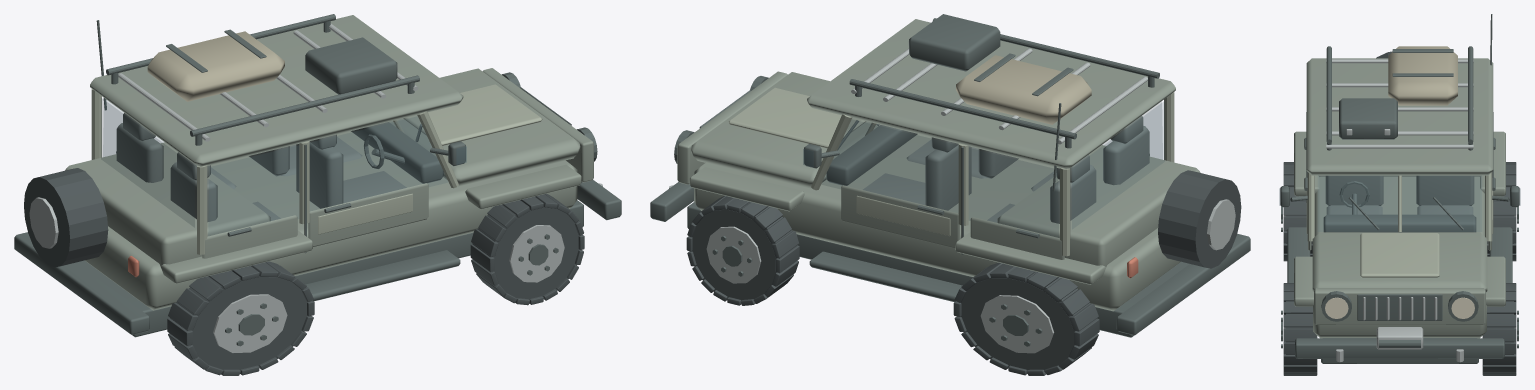
The model's file is camp_rover.glb.
3 views of the same model, side by side, from view 1: azimuth 30°, elevation 25°; view 2: azimuth 150°, elevation 25°; view 3: azimuth 270°, elevation 25° (orthographic). The views are drawn at different scales.
Visible parts, largest first — view 1: Cab roof, Lower body, Side window.001, Rear body, Hood, Canvas duffel, Rear glass, Spare tyre, Tyre.002, Hood raised spine, Tyre.003, Rugged case (+29 smaller); view 2: Cab roof, Lower body, Side window, Rear body, Hood, Rear glass, Canvas duffel, Spare tyre, Tyre, Hood raised spine, Tyre.001, Rugged case (+29 smaller); view 3: Cab roof, Windshield, Hood, Lower body, Front bumper, Hood raised spine, Canvas duffel, Dashboard, Front fascia, Rugged case, Grille black inset, Seat_0_0_back (+45 smaller).
Boxes of the visible parts, left/top/right/bottom form: Cab roof: left=90, top=15, right=463, bottom=166; Lower body: left=85, top=131, right=577, bottom=310; Side window.001: left=208, top=117, right=447, bottom=235; Rear body: left=65, top=142, right=270, bottom=265; Hood: left=389, top=68, right=580, bottom=186; Canvas duffel: left=147, top=31, right=284, bottom=101; Rear glass: left=101, top=98, right=194, bottom=226; Spare tyre: left=24, top=168, right=108, bottom=267; Tyre.002: left=170, top=266, right=310, bottom=372; Hood raised spine: left=403, top=84, right=542, bottom=145; Tyre.003: left=472, top=200, right=579, bottom=299; Rugged case: left=305, top=37, right=397, bottom=94; Cab roof: left=807, top=19, right=1175, bottom=168; Lower body: left=694, top=134, right=1180, bottom=311; Side window: left=822, top=120, right=1058, bottom=237; Rear body: left=997, top=145, right=1200, bottom=267; Hood: left=691, top=72, right=880, bottom=188; Rear glass: left=1072, top=101, right=1164, bottom=228; Canvas duffel: left=956, top=55, right=1091, bottom=124; Spare tyre: left=1158, top=170, right=1241, bottom=268; Tyre: left=960, top=267, right=1096, bottom=370; Hood raised spine: left=728, top=87, right=865, bottom=148; Tyre.001: left=690, top=202, right=797, bottom=300; Rugged case: left=909, top=14, right=1000, bottom=71; Cab roof: left=1306, top=58, right=1493, bottom=175; Windshield: left=1318, top=176, right=1481, bottom=231; Hood: left=1312, top=232, right=1487, bottom=291; Lower body: left=1313, top=176, right=1486, bottom=338; Front bumper: left=1295, top=338, right=1504, bottom=358; Hood raised spine: left=1360, top=233, right=1439, bottom=277; Canvas duffel: left=1388, top=46, right=1457, bottom=105; Dashboard: left=1323, top=214, right=1476, bottom=232; Front fascia: left=1314, top=288, right=1485, bottom=324; Rugged case: left=1339, top=98, right=1397, bottom=139; Grille black inset: left=1357, top=294, right=1442, bottom=320; Seat_0_0_back: left=1416, top=175, right=1474, bottom=205.
Bounding box in the file's own units: 4.89 × 2.38 × 2.29.
